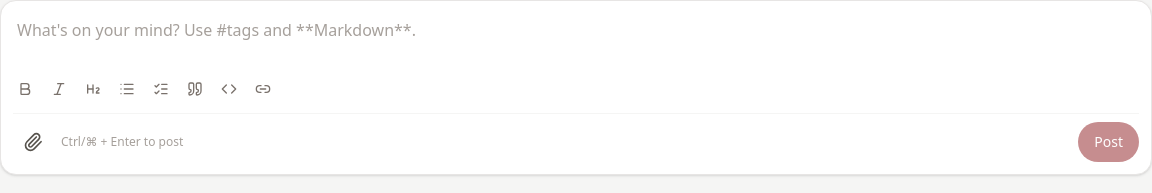
Test: Composer › suggests existing tags while a #tag is typed, with the setting on
Type "Buy #g" into the text box named "New note" at {"x": 576, "y": 43}, box [13, 13, 1139, 73]
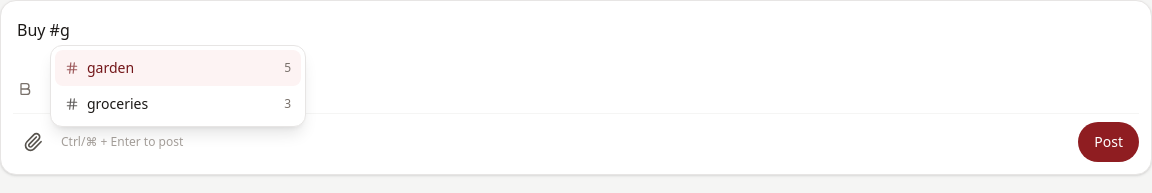
Now the options read "garden5", "groceries3", in this order, box [55, 50, 301, 86]; [65, 94, 291, 113]
Press Arrowdown Enter
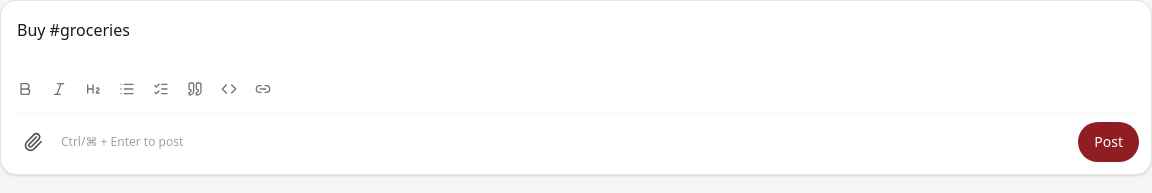
Now the text box named "New note" holds "Buy #groceries ", box [13, 13, 1139, 73]
Now the list is gone
